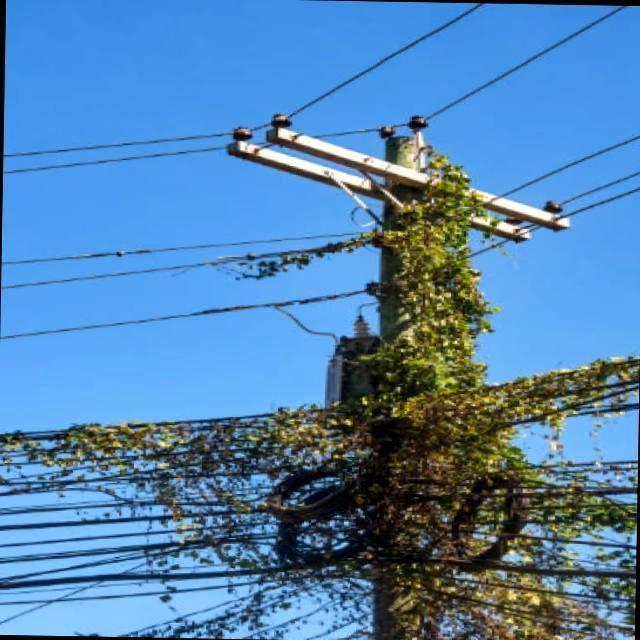critical vegetation: (328, 133, 527, 632)
